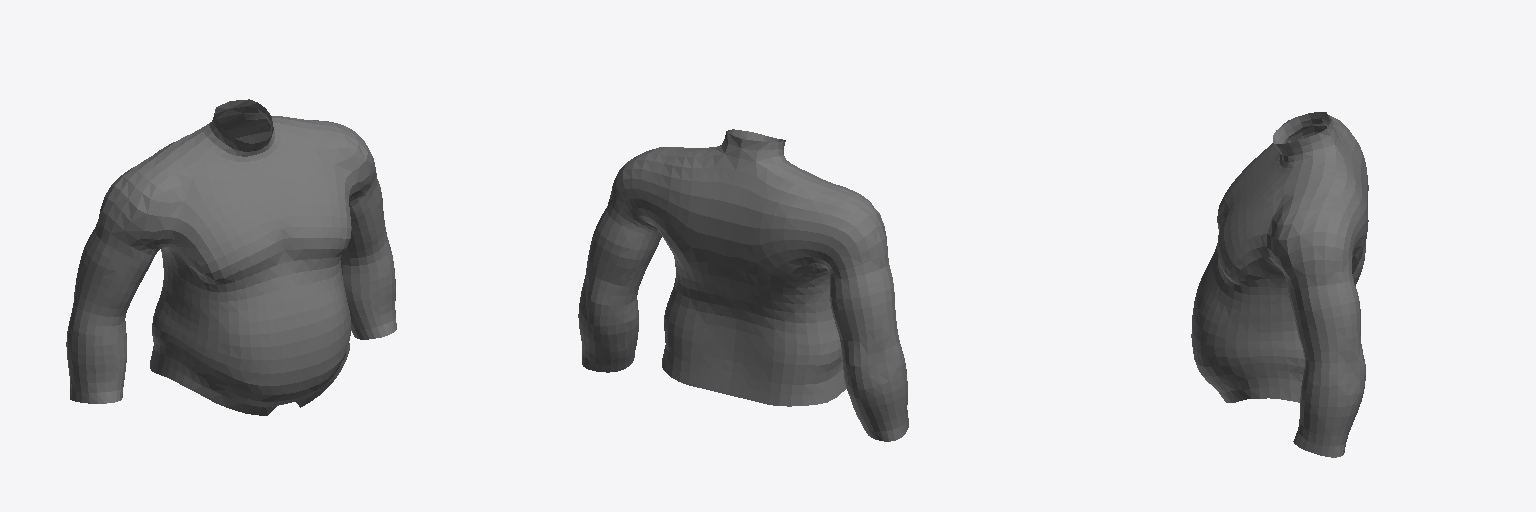
Rendered from LowPoly_Aristocrata_Camisa.obj.
3 views of the same model, side by side, from view 1: azimuth 30°, elevation 25°; view 2: azimuth 150°, elevation 25°; view 3: azimuth 270°, elevation 25° (orthographic).
Parts seen in each view (by area): view 1: LowPoly_Aristocrata_Camisa; view 2: LowPoly_Aristocrata_Camisa; view 3: LowPoly_Aristocrata_Camisa.
Boxes of the visible parts, box(x1,y1,x2,y2) form: LowPoly_Aristocrata_Camisa: box(66, 99, 396, 415); LowPoly_Aristocrata_Camisa: box(578, 129, 908, 441); LowPoly_Aristocrata_Camisa: box(1191, 112, 1368, 457).
Size of the model in its own units: 80.55 by 65.13 by 38.47.